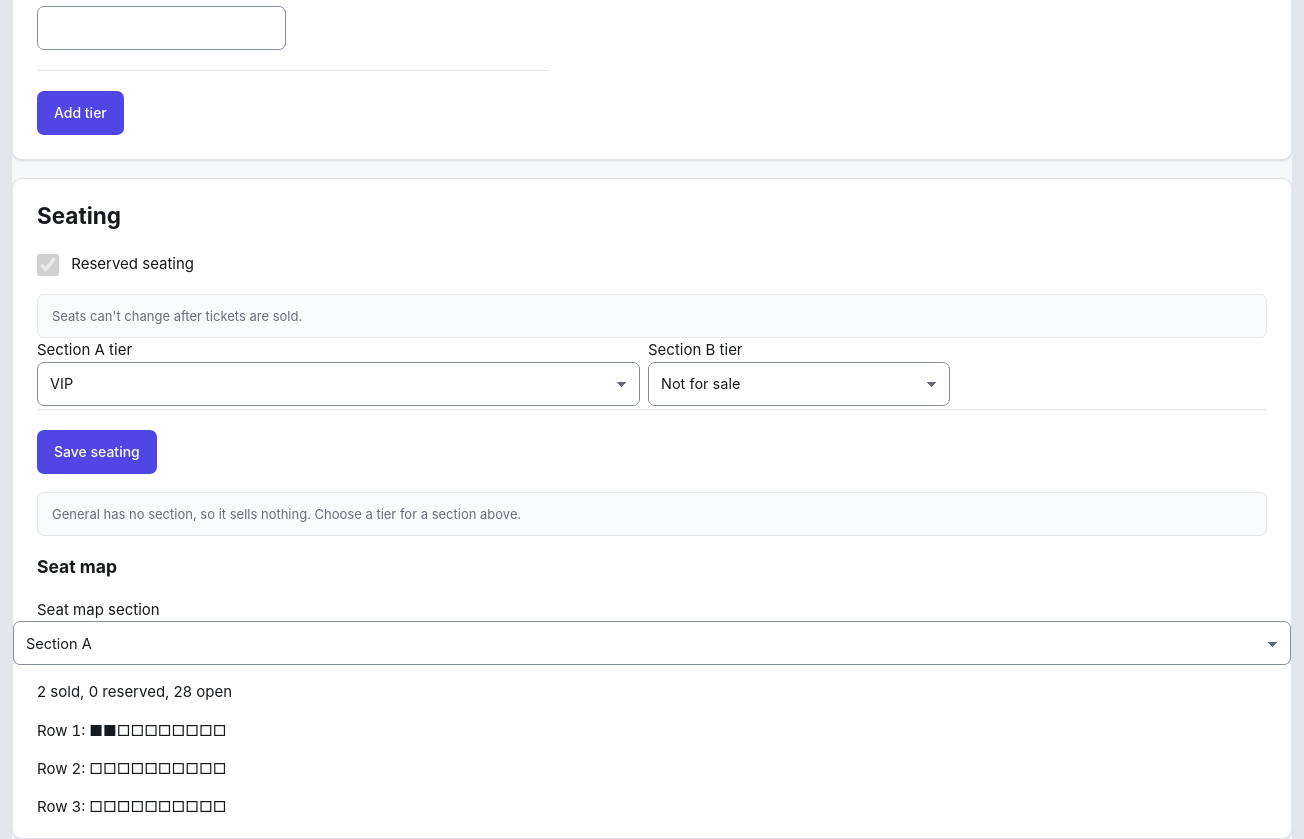
Scenario: Seat map › shows one section at a time, each seat sold or open, with counts
(page scrolled)
Expected: the text "2 sold, 0 reserved, 28 open" is shown, [37,682,232,701]
Expected: the picture named "Row 1, Seat 1, sold" is shown, [89,721,103,740]
Step 1. Select "Section B" in the dropdown labelled "Seat map section" → (652,643), box [13,621,1291,665]
(page scrolled)
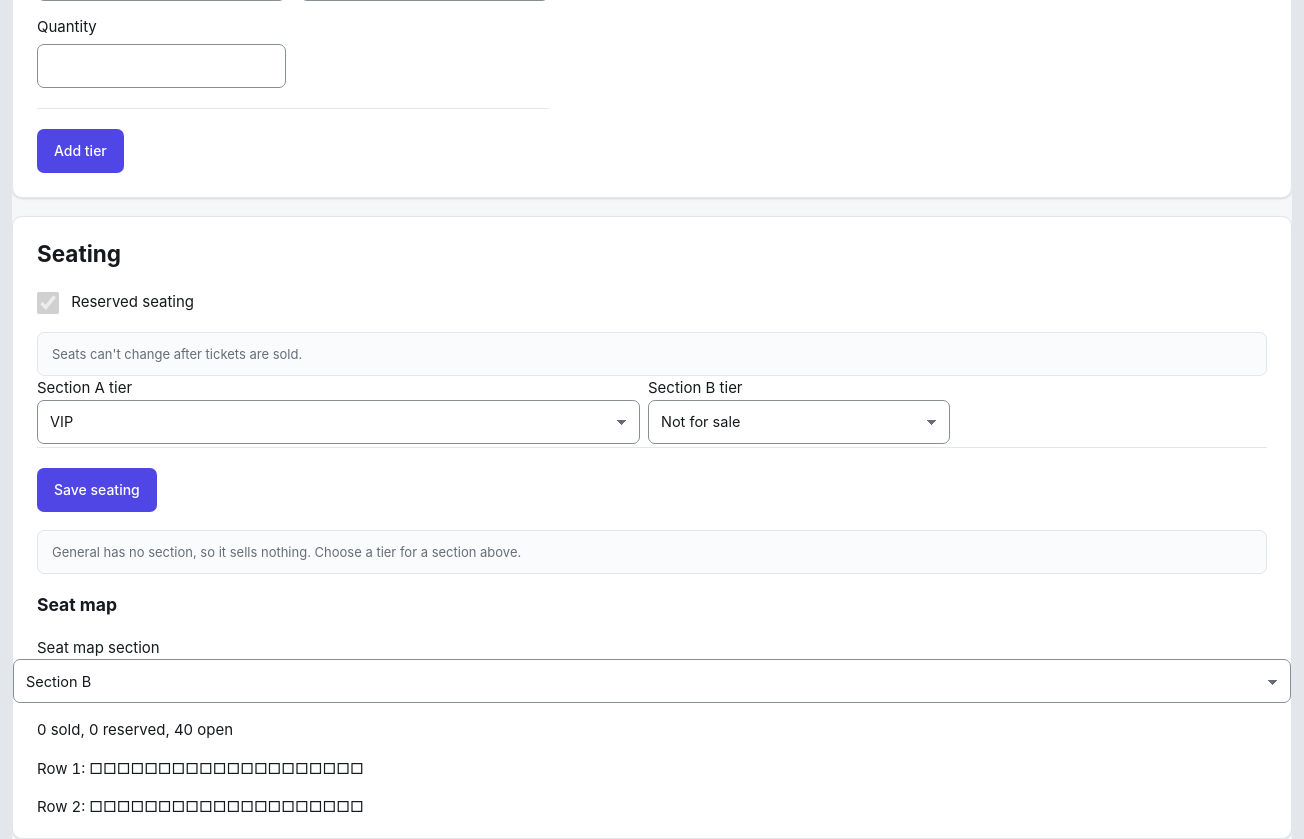
Expected: the text "0 sold, 0 reserved, 40 open" is shown, [37,720,233,739]
Expected: the element named "Section B seat map" is shown, [37,759,364,816]
